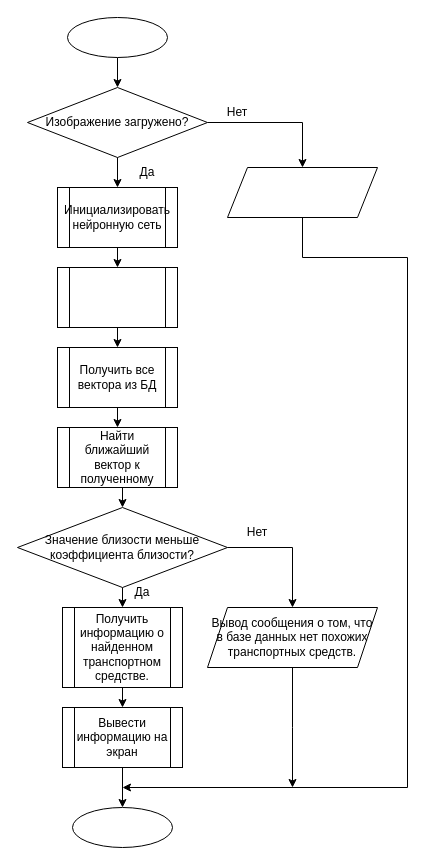
This 433x865 diagram has some shape labels left out. Here are the shapes that lost their labels. From the top down, the centre of each, then its label:
the point at 117,37: Начало
the point at 302,192: Вывод сообщения об ошибке
the point at 117,297: Получить вектор представления изображения
the point at 122,827: Конец
